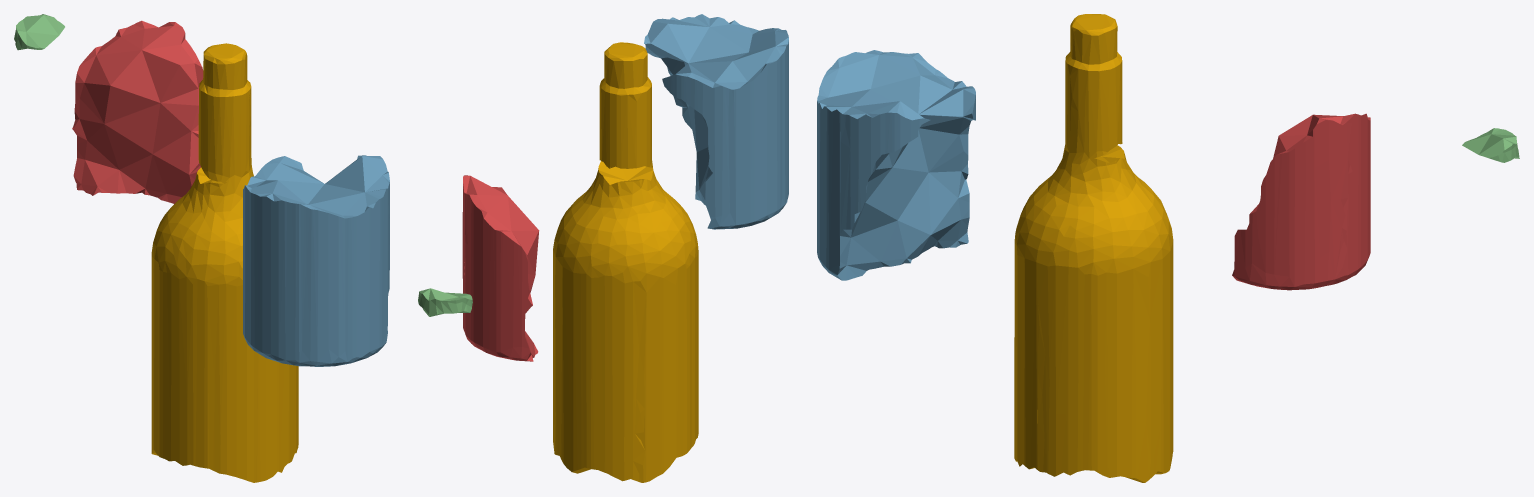
File: fractured_30_4pcs_transformed.glb
3 views of the same model, side by side, from view 1: azimuth 30°, elevation 25°; view 2: azimuth 150°, elevation 25°; view 3: azimuth 270°, elevation 25° (orthographic). The views are drawn at different scales.
Parts seen in each view (by area): view 1: piece_0.obj, piece_2.obj, piece_1.obj, piece_3.obj; view 2: piece_0.obj, piece_2.obj, piece_1.obj, piece_3.obj; view 3: piece_0.obj, piece_2.obj, piece_1.obj, piece_3.obj.
Boxes of the visible parts, x1,y1,x2,y2 form: piece_0.obj: [151, 43, 298, 482]; piece_2.obj: [243, 155, 389, 366]; piece_1.obj: [72, 20, 203, 203]; piece_3.obj: [14, 14, 64, 50]; piece_0.obj: [553, 42, 698, 482]; piece_2.obj: [644, 14, 788, 229]; piece_1.obj: [462, 175, 539, 361]; piece_3.obj: [418, 288, 472, 316]; piece_0.obj: [1014, 14, 1173, 482]; piece_2.obj: [817, 50, 975, 280]; piece_1.obj: [1232, 113, 1370, 290]; piece_3.obj: [1462, 128, 1519, 162].
Size of the model in its own units: 0.2415 by 0.7442 by 1.07.
